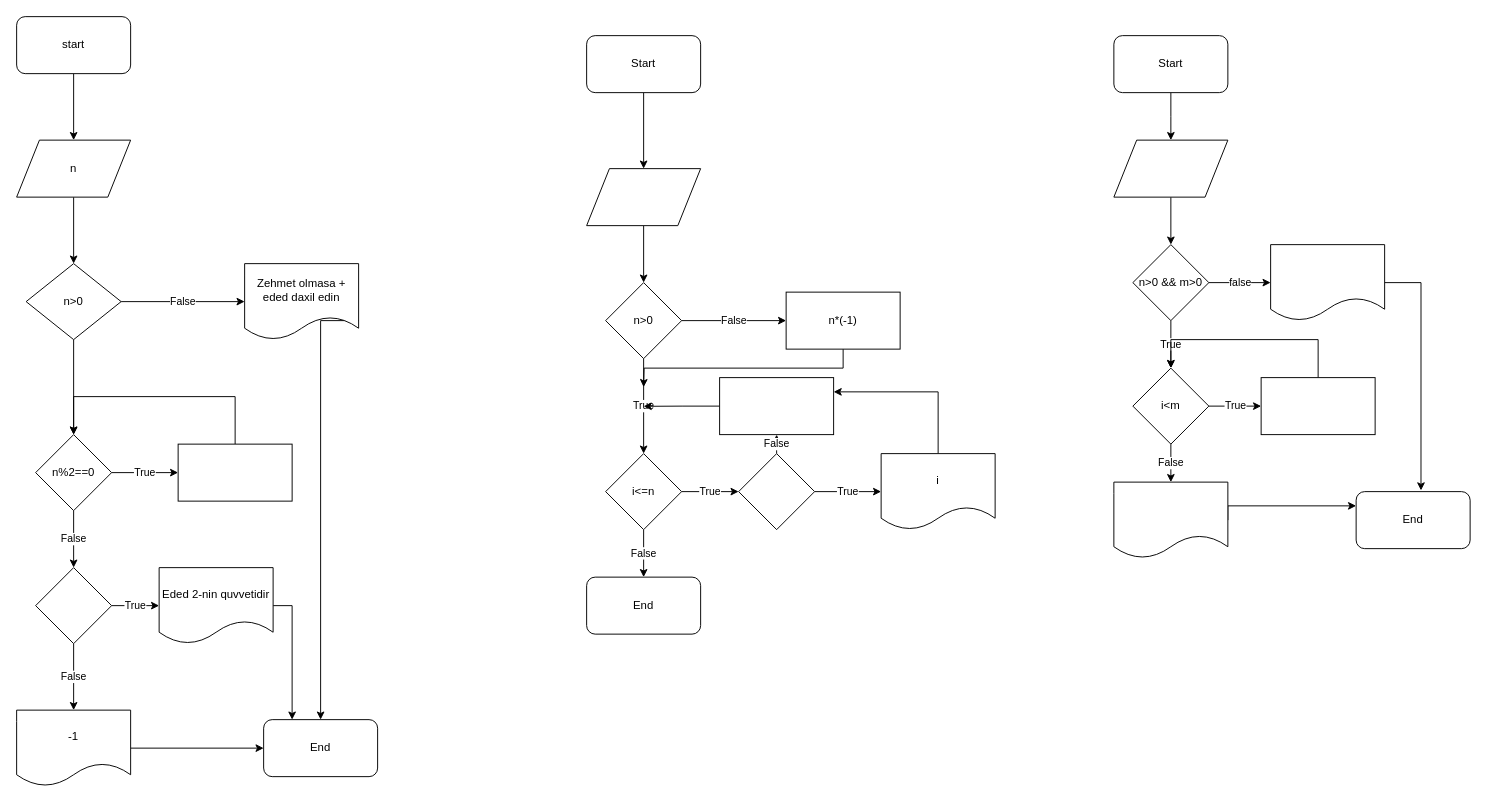
The diagram is 1487 pixels wide and 803 high, and some of its shapes have lost their labels. Each missing label, with the centre of its shape:
"i++" belongs at (776,406).
"musbet eded daxil edin" belongs at (1327,282).
"n%i==0" belongs at (776,491).
"n,i=1" belongs at (643,197).
"n,m,result=1,i=0" belongs at (1170,168).
"n/=2" belongs at (234,472).
"n==1" belongs at (73,605).
"result" belongs at (1170,519).
"result=result*n i++" belongs at (1317,406).
